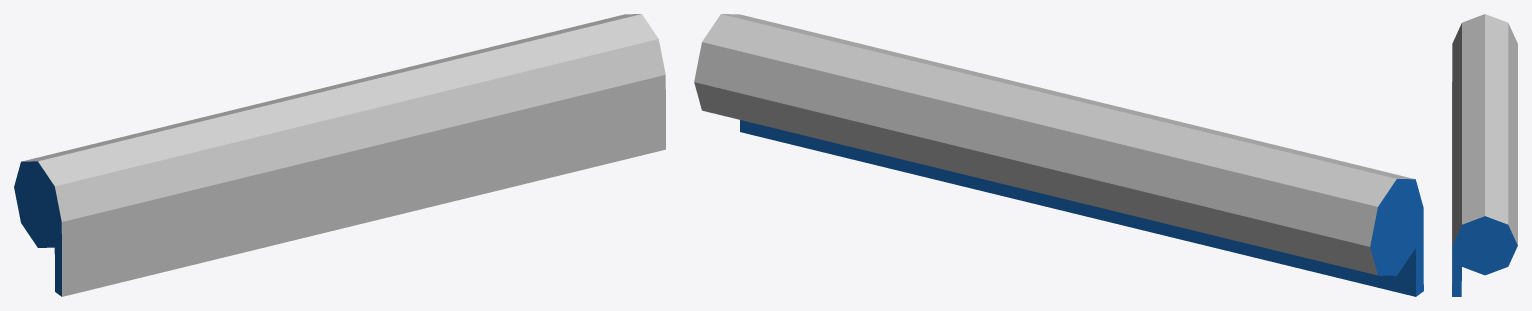
File: space_wallpaper_14.fbx
3 renders of one model, left to right at view 1: azimuth 30°, elevation 25°; view 2: azimuth 150°, elevation 25°; view 3: azimuth 270°, elevation 25°, orthographic. The views are drawn at different scales.
Visible parts, largest first — view 1: Cylinder_95; view 2: Cylinder_95; view 3: Cylinder_95.
Part boxes in pixels (bbox=[...]): Cylinder_95: bbox=[14, 14, 665, 296]; Cylinder_95: bbox=[694, 14, 1423, 296]; Cylinder_95: bbox=[1452, 14, 1517, 296].
Bounding box in the file's own units: 100 × 18.67 × 13.76.
